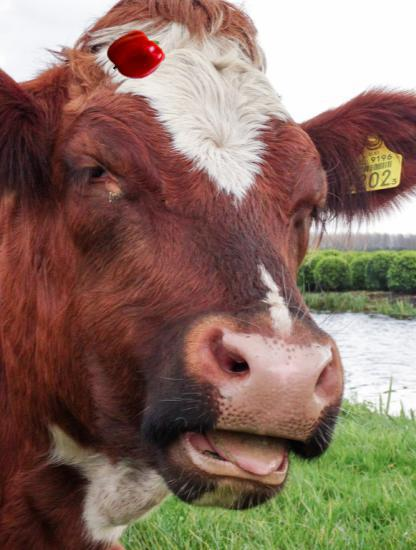Pepper: (110, 29, 162, 81)
